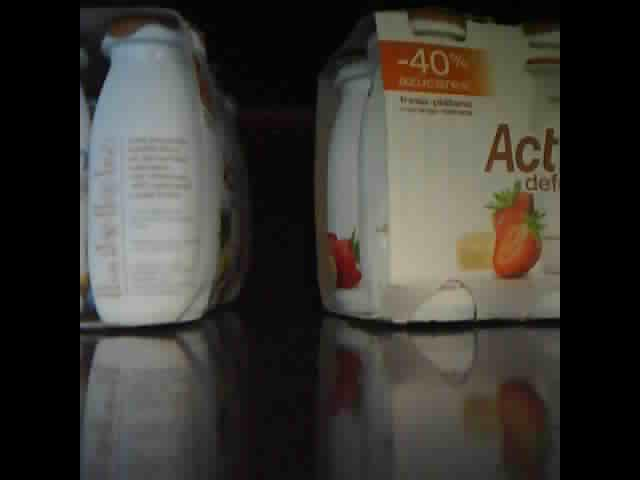actimel: (311, 9, 560, 323), (80, 5, 253, 332)
